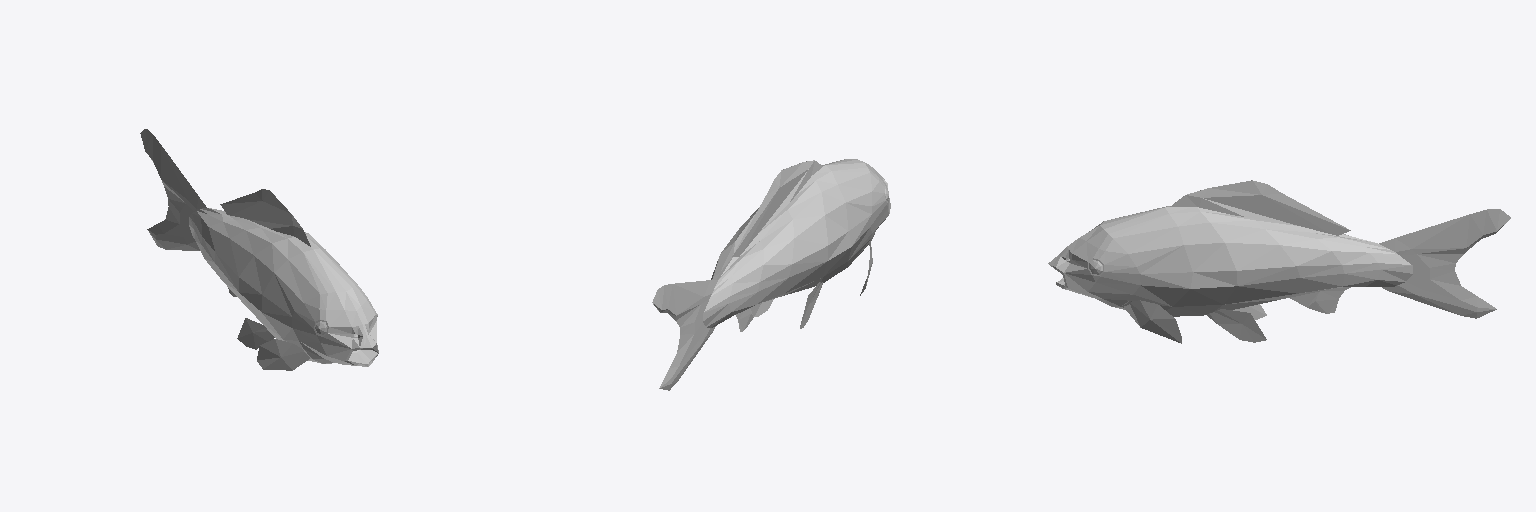
File: finalfish.obj
3 renders of one model, left to right at view 1: azimuth 30°, elevation 25°; view 2: azimuth 150°, elevation 25°; view 3: azimuth 270°, elevation 25°, orthographic.
Parts seen in each view (by area): view 1: finalfish; view 2: finalfish; view 3: finalfish.
Boxes of the visible parts, <box> form: finalfish: <box>140,129,378,370</box>; finalfish: <box>652,159,890,390</box>; finalfish: <box>1048,180,1510,343</box>.
Bounding box in the file's own units: 0.3232 × 0.4821 × 1.34.